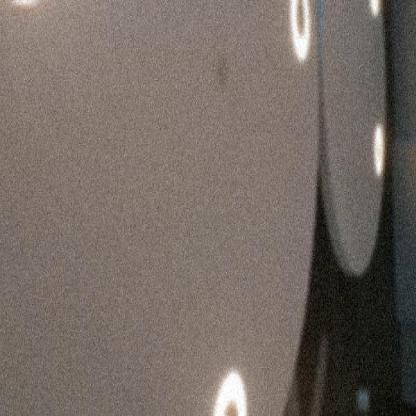light_on: (209, 354, 249, 415), (287, 0, 312, 68), (369, 112, 385, 184), (8, 0, 48, 11), (367, 0, 385, 22)
